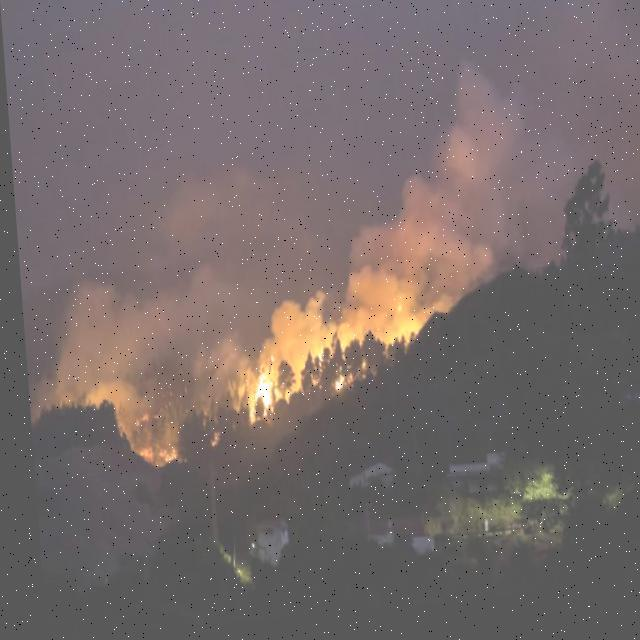Fire: (228, 357, 279, 432), (130, 442, 171, 474), (324, 380, 342, 398)
